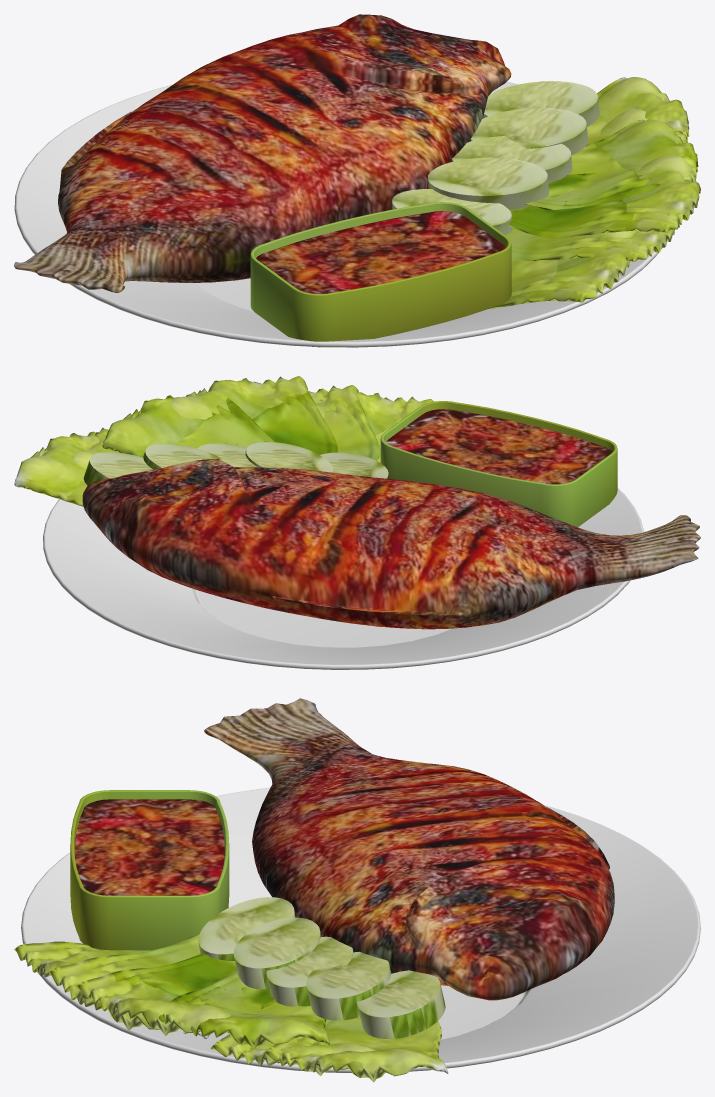
Rendered from Fried Fish.glb.
The picture shows the model from 3 angles, top to bottom: view 1: azimuth 30°, elevation 25°; view 2: azimuth 150°, elevation 25°; view 3: azimuth 270°, elevation 25°; orthographic projection. The views are drawn at different scales.
Visible parts, largest first — view 1: Fries Fish; view 2: Fries Fish; view 3: Fries Fish.
Boxes of the visible parts, left/top/right/bottom form: Fries Fish: left=14, top=14, right=700, bottom=347; Fries Fish: left=14, top=376, right=700, bottom=669; Fries Fish: left=14, top=698, right=700, bottom=1082.
Bounding box in the file's own units: 0.28 × 0.057 × 0.2339.
Materials: 2 (1 with a texture image).
